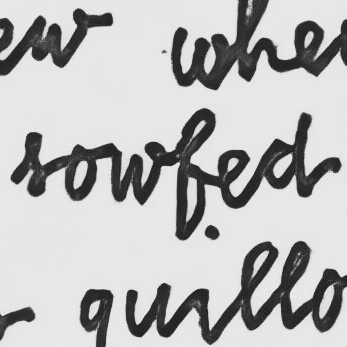d: (259, 108, 316, 199)
e: (212, 145, 253, 212)
f: (170, 105, 217, 243)
o: (62, 141, 101, 204)
s: (19, 130, 52, 198)
w: (106, 139, 165, 207)
